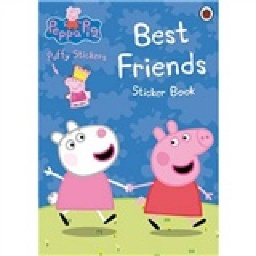Peppa: (130, 119, 214, 234)
